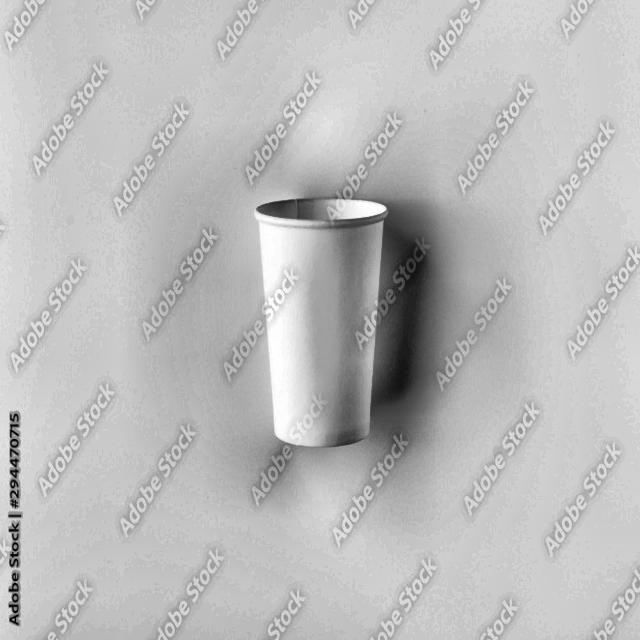Cup: (250, 186, 396, 455)
